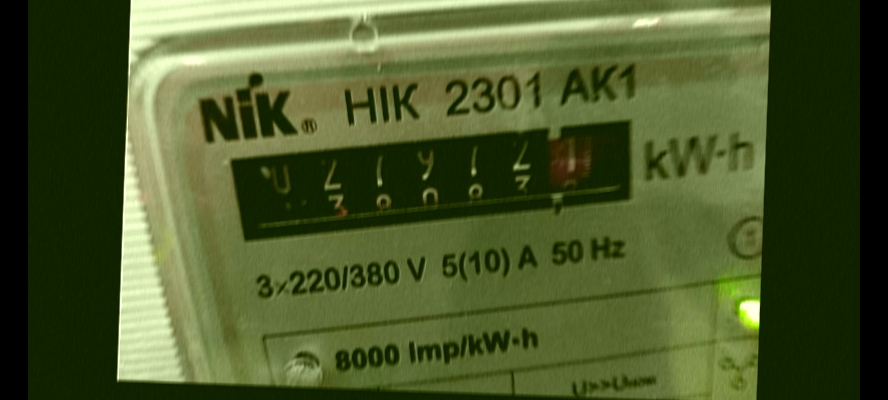0: (266, 158, 295, 195)
1: (560, 132, 583, 176)
2: (315, 151, 345, 191), (506, 134, 535, 172)
7: (458, 138, 486, 179), (365, 150, 389, 188)
9: (412, 145, 440, 181)
screen: (210, 96, 667, 266)
